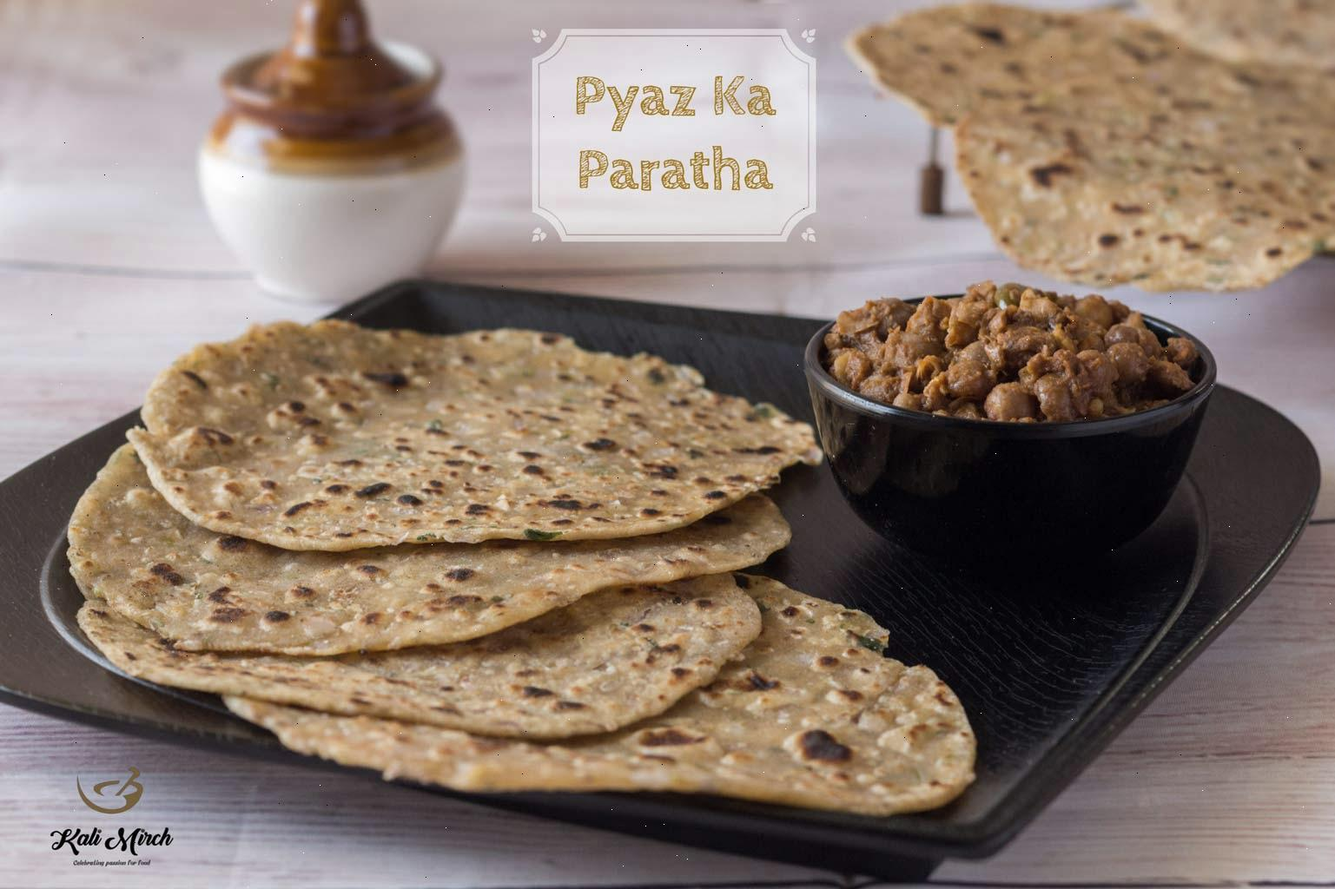chole: (838, 279, 1208, 435)
paratha: (67, 299, 825, 815)
